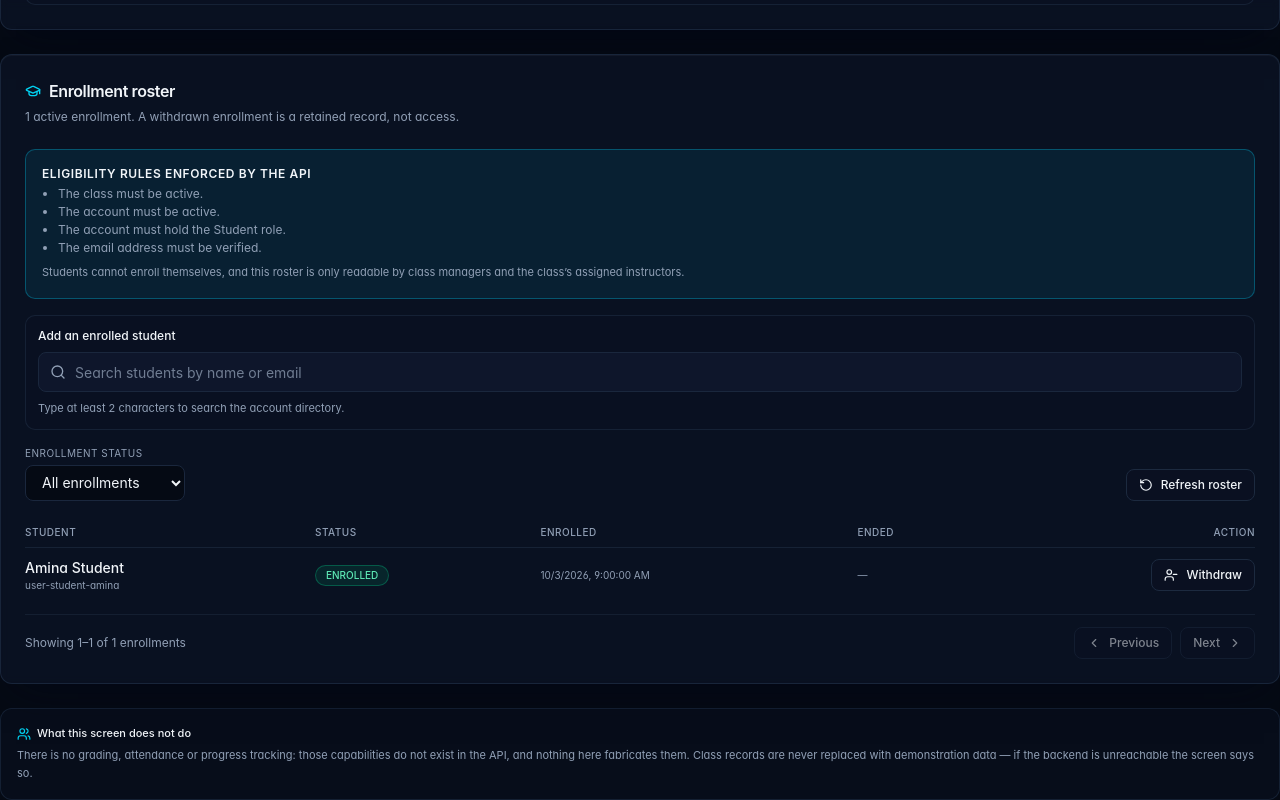
Scenario: Administrative roster names come from the API › reflects a profile-name change returned by the backend
(page scrolled)
Check: the text "Amina Student" is shown, box x1=25 y1=559 x2=124 y2=576
What coordinates should you click on to do the following:
click the button "Refresh roster"
I would click on:
 (1190, 485)
Its box is x1=1126 y1=469 x2=1255 y2=501.
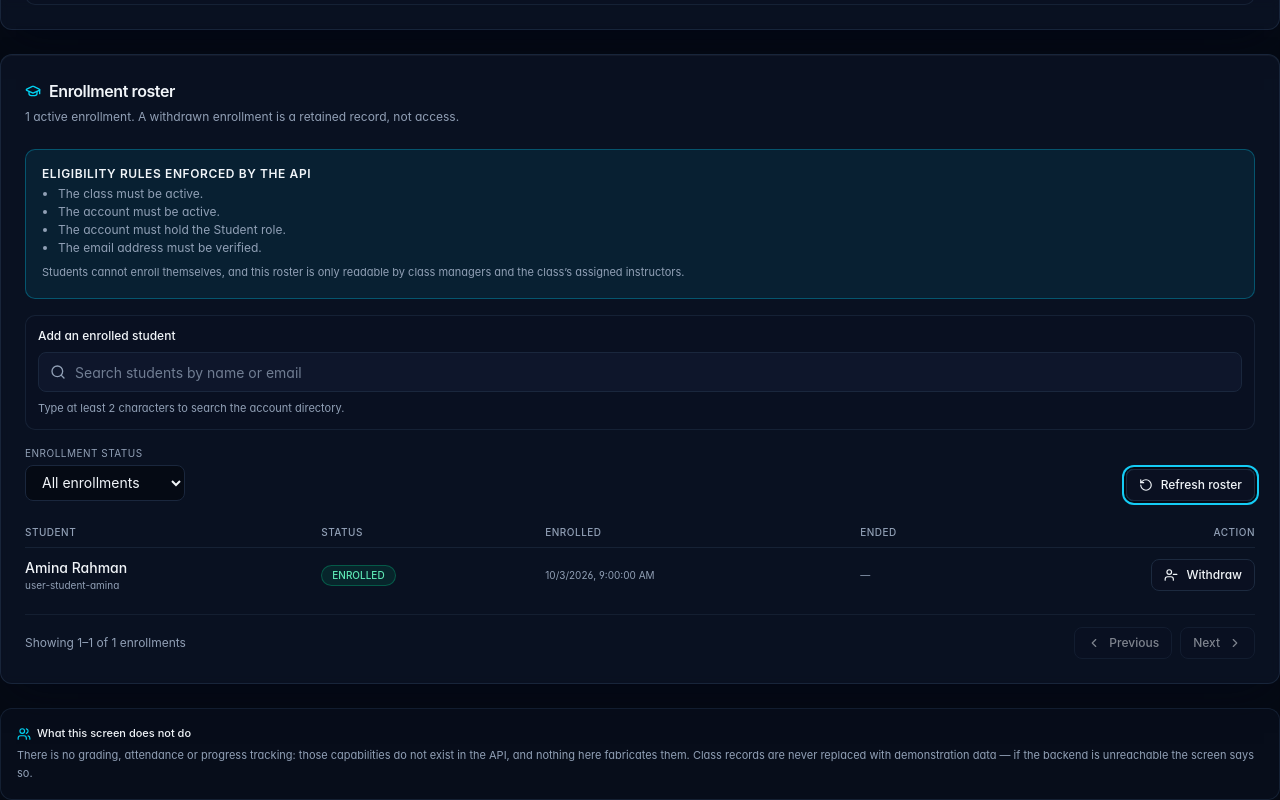
Check: the text "Amina Rahman" is shown, box x1=25 y1=559 x2=127 y2=576
Check: the text "Amina Student" is gone
